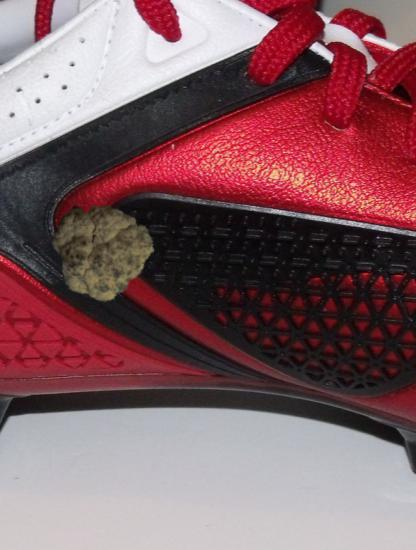Cauliflower: (48, 201, 152, 305)
